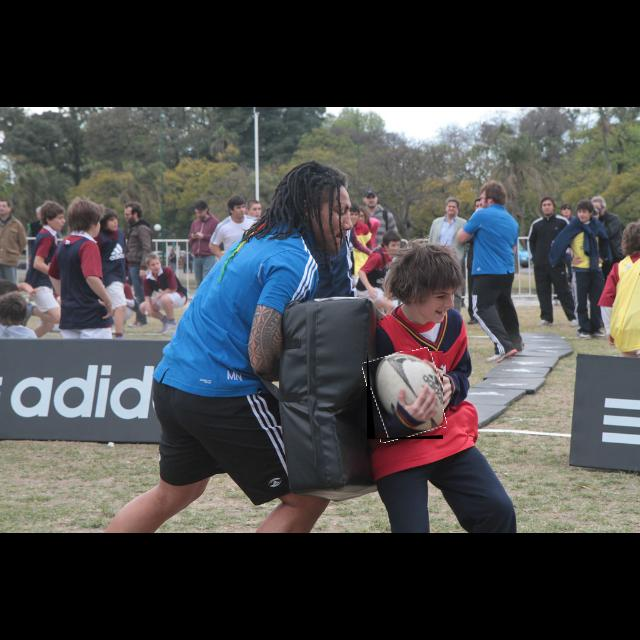Football: (367, 351, 443, 439)
